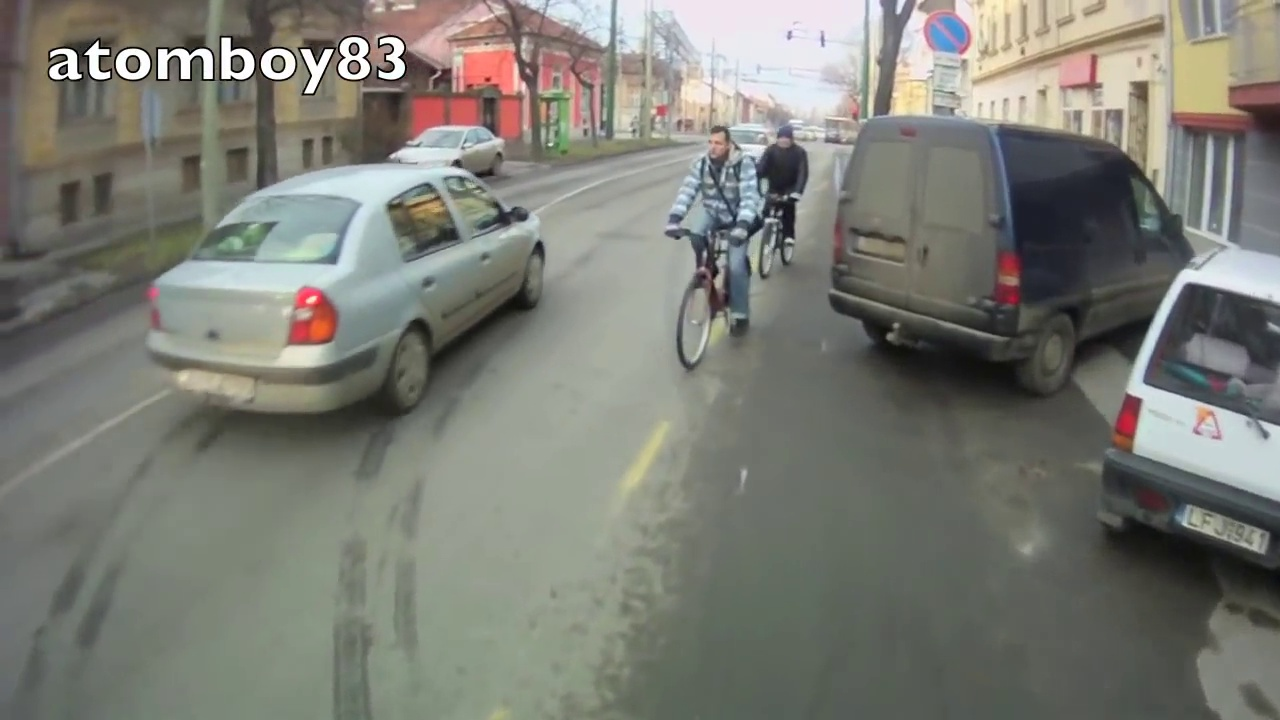cyclist_front: (679, 128, 756, 368), (754, 114, 818, 277)
